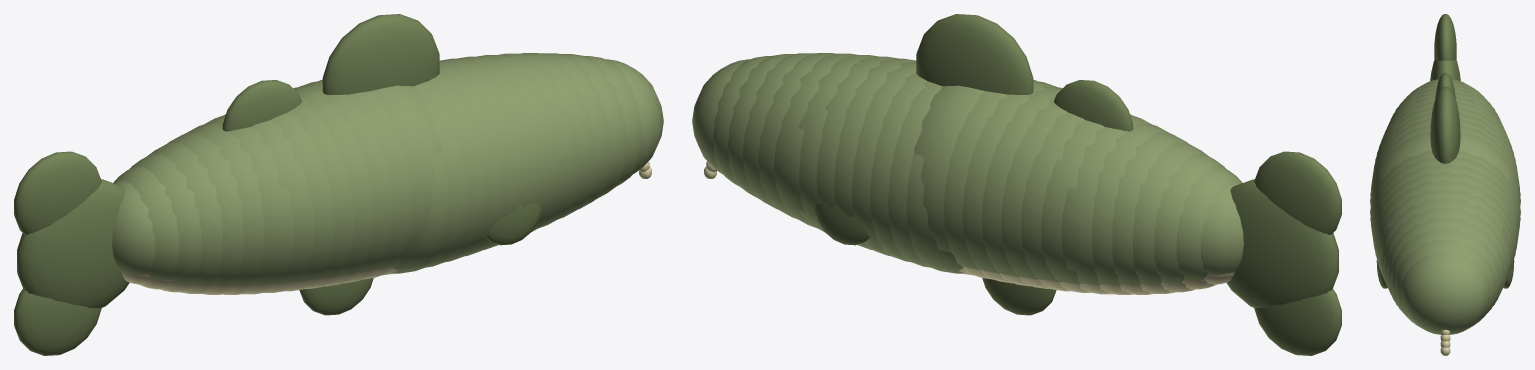
The model's file is cod.glb.
The picture shows the model from 3 angles, left to right: view 1: azimuth 30°, elevation 25°; view 2: azimuth 150°, elevation 25°; view 3: azimuth 270°, elevation 25°; orthographic projection. The views are drawn at different scales.
Visible parts, largest first — view 1: cod; view 2: cod; view 3: cod.
Boxes of the visible parts, left/top/right/bottom form: cod: left=14, top=14, right=663, bottom=355; cod: left=692, top=14, right=1341, bottom=355; cod: left=1370, top=14, right=1520, bottom=355.
Size of the model in its own units: 2.18 by 0.9359 by 0.5997.
